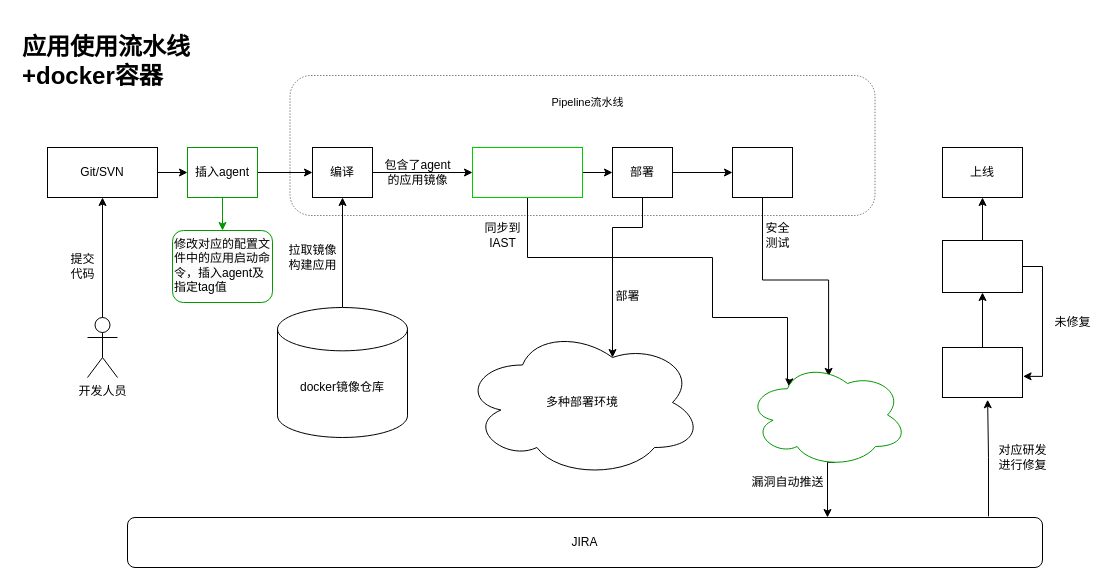
Image size: 1119x585. Some labels were removed from this diagram. Here are the shapes that lost their labels. From the top down, the centre of each, then its label:
At [527,172]: "IAST建立项目绑定Tag".
At [762,172]: "测试".
At [982,266]: "漏洞验证".
At [982,372]: "漏洞修复".
At [827,415]: "IAST工具".
